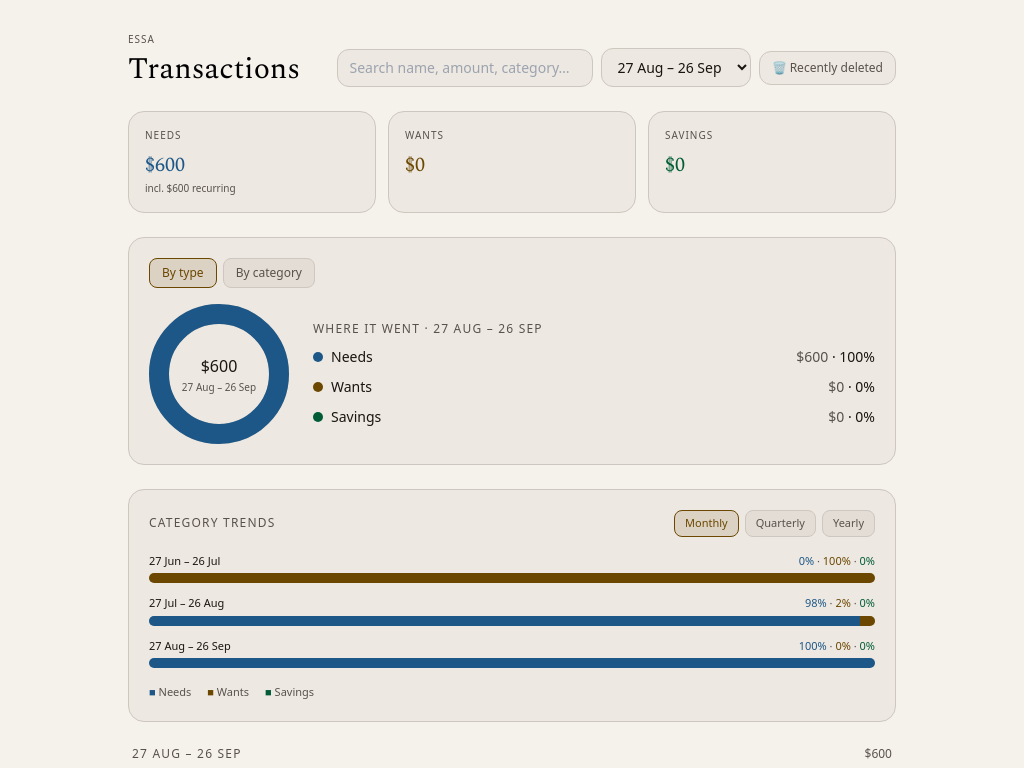
3. the "By category" donut reads the same anchor (:237) › startDay 27: the mid-cycle item appears under its category
This screenshot has width=1024, height=768.
Select "27 Jul – 26 Aug" in the dropdown. click: [676, 68]
box: top-left (600, 48), bottom-right (750, 87)
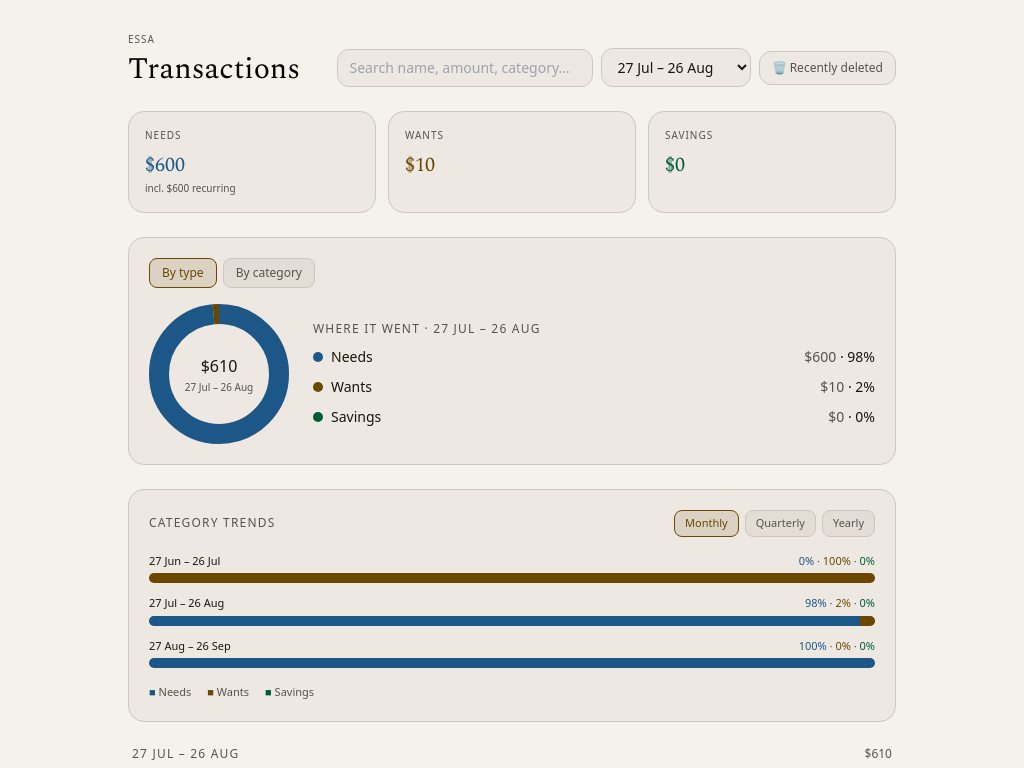
Click the button "By category". click: [269, 273]
box: top-left (223, 258), bottom-right (315, 288)
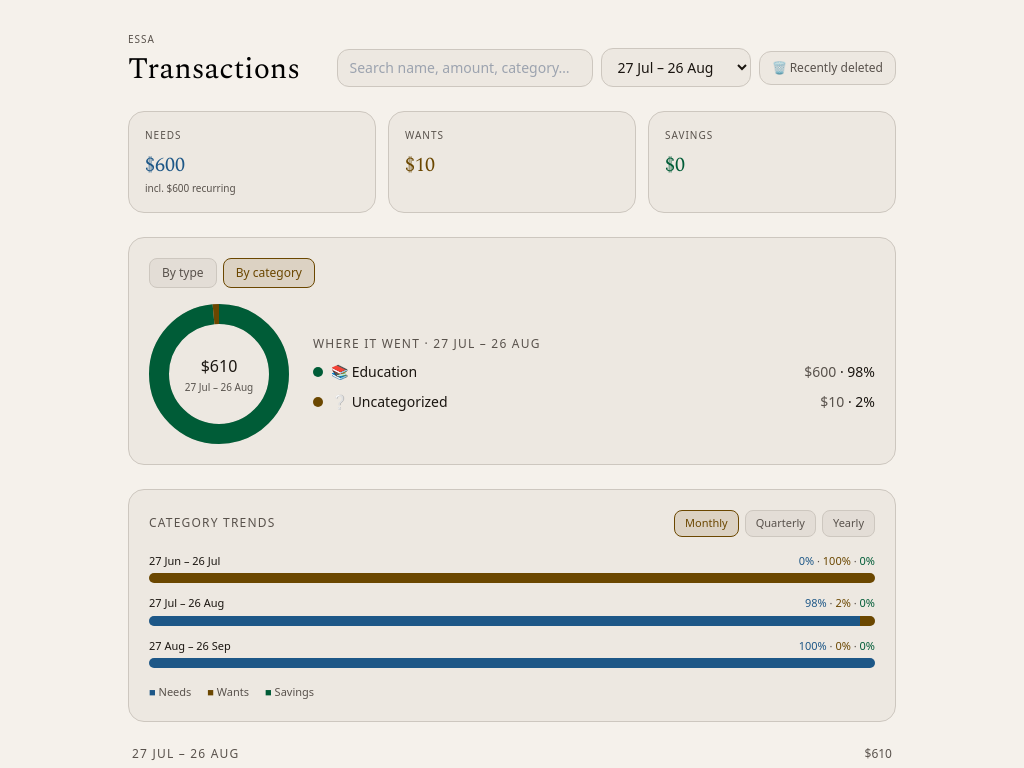
Expected: the button "By type" is shown, top-left (149, 258), bottom-right (217, 288)
Now the text "$600 · 98%" is shown, box top-left (804, 362), bottom-right (875, 382)
Now the text "📚 Education" is shown, box top-left (313, 362), bottom-right (417, 382)
